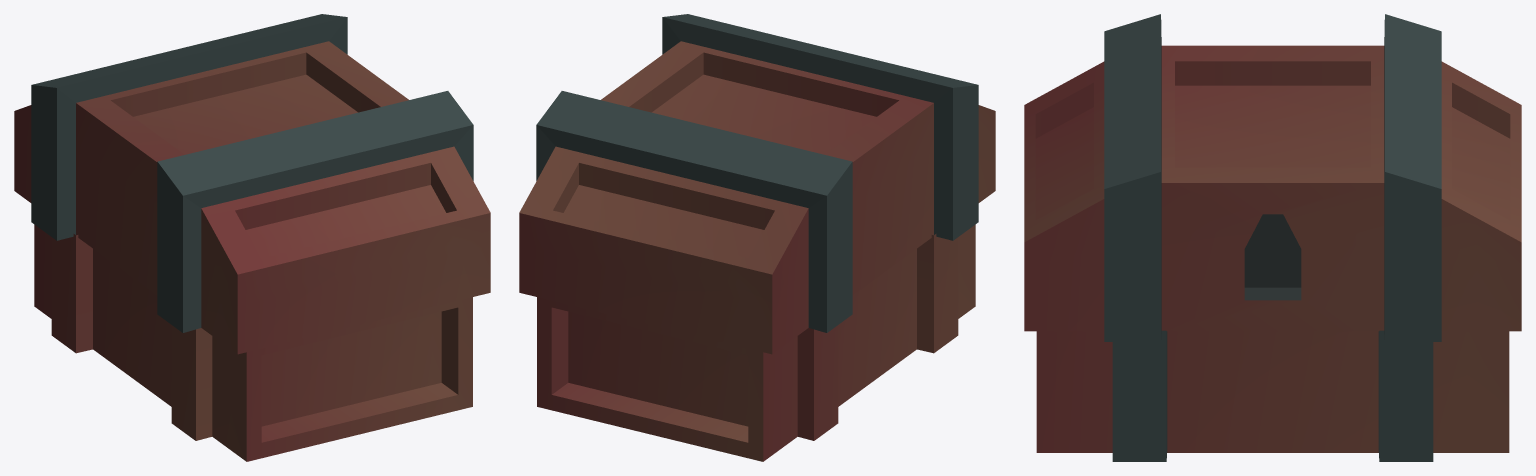
The model's file is Bau.fbx.
3 renders of one model, left to right at view 1: azimuth 30°, elevation 25°; view 2: azimuth 150°, elevation 25°; view 3: azimuth 270°, elevation 25°, orthographic. The views are drawn at different scales.
Parts seen in each view (by area): view 1: Caminho.001; view 2: Caminho.001; view 3: Caminho.001.
Boxes of the visible parts, x1,y1,x2,y2 form: Caminho.001: (14, 14, 490, 461); Caminho.001: (519, 14, 995, 461); Caminho.001: (1024, 14, 1521, 461).
Bounding box in the file's own units: 447 × 595 × 393.
